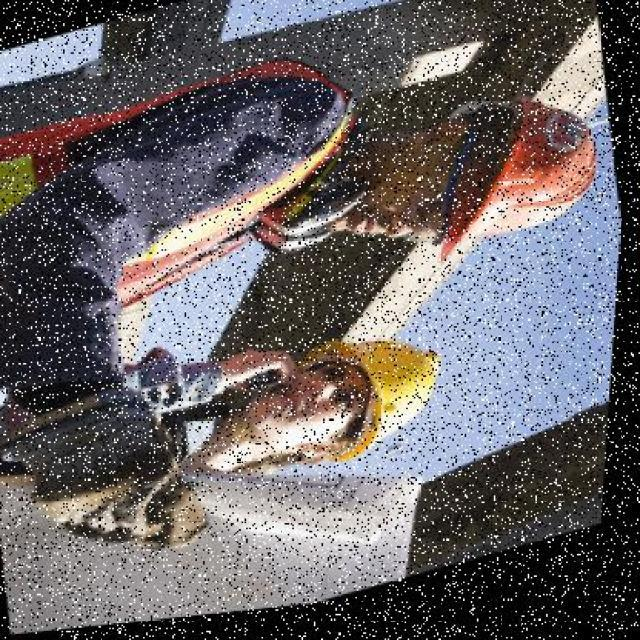helmet: (411, 85, 619, 283), (305, 308, 473, 478)
